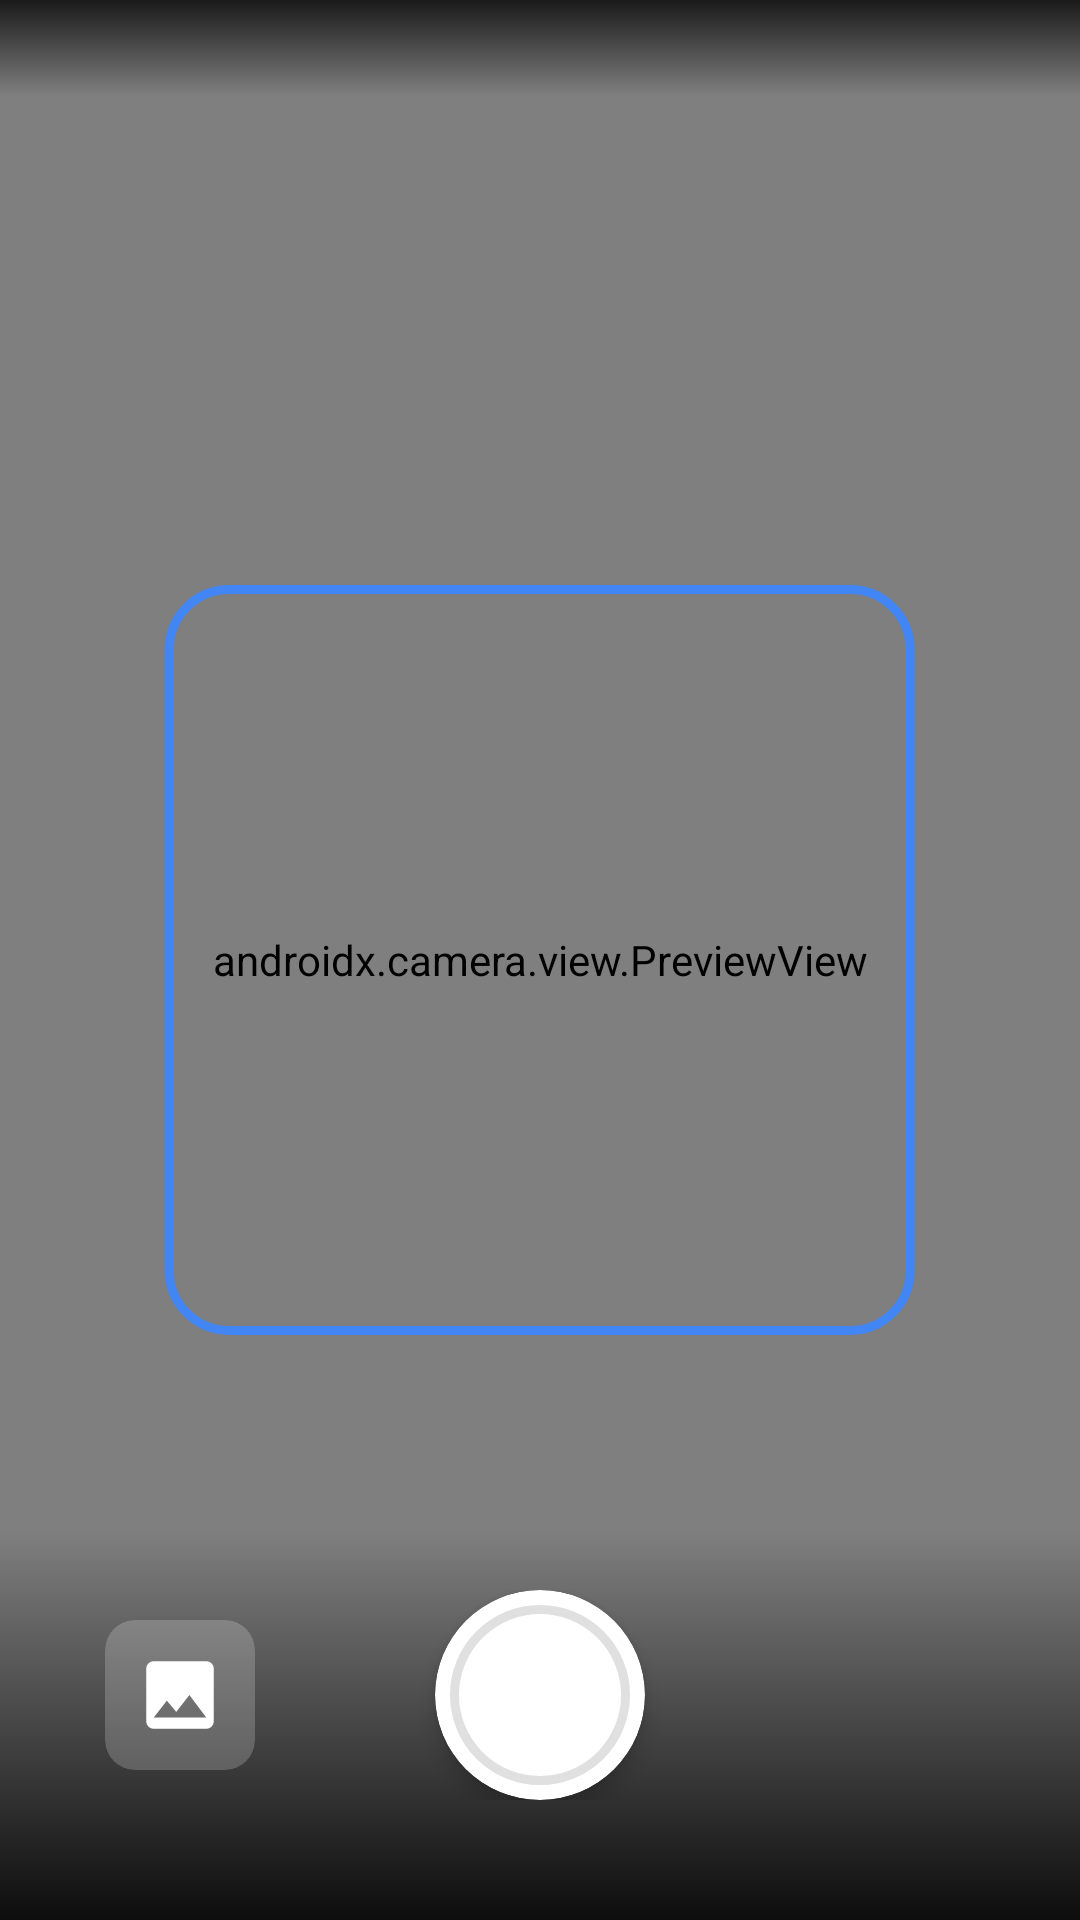

Screen size 1080px×1920px. Icon name, then its box in pixels as (x1, y1, x2, y2):
gallery: (146, 1661, 214, 1729)
